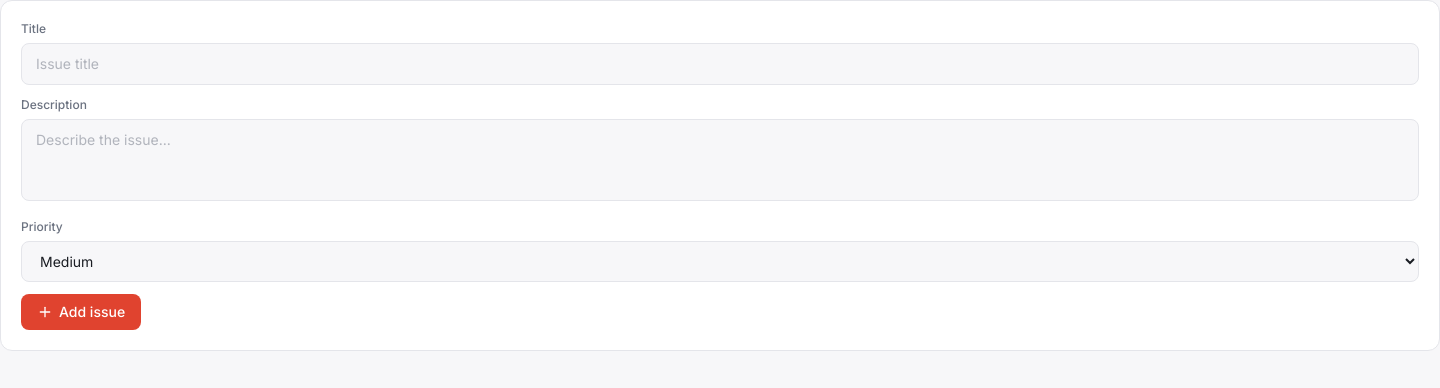
IssueForm › shows a validation error when the title is too short
Type "Hi" into the field labelled "Title".
click(720, 64); type("Hi")  # box [21, 43, 1419, 85]
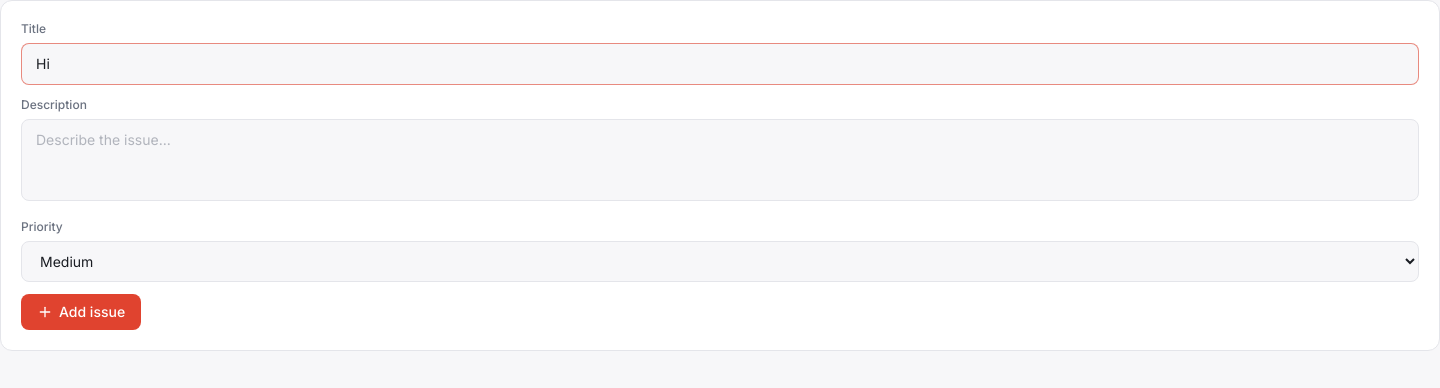
Click the button "Add issue".
click(81, 312)  # box [21, 294, 141, 330]
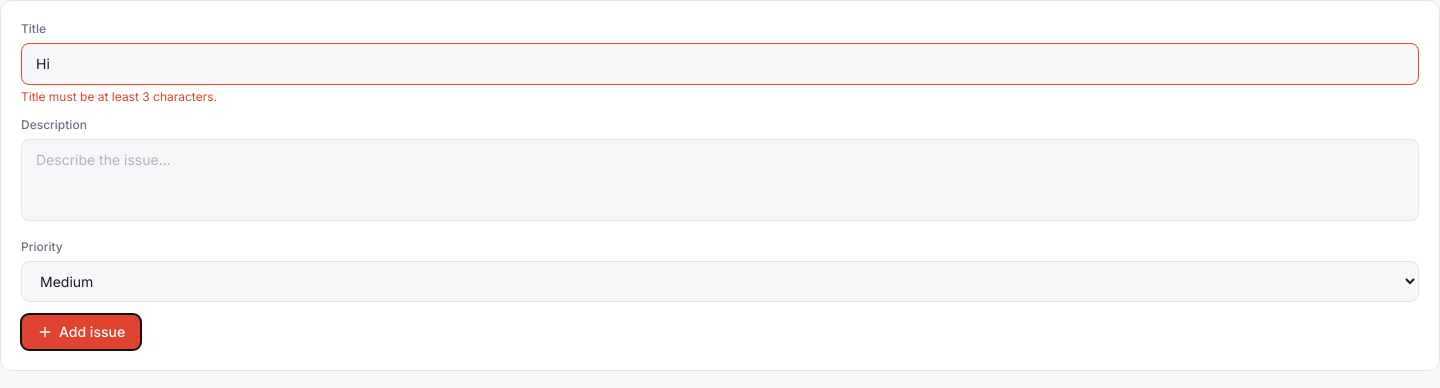
Now the message shows "at least 3 characters", box [21, 89, 217, 104]
